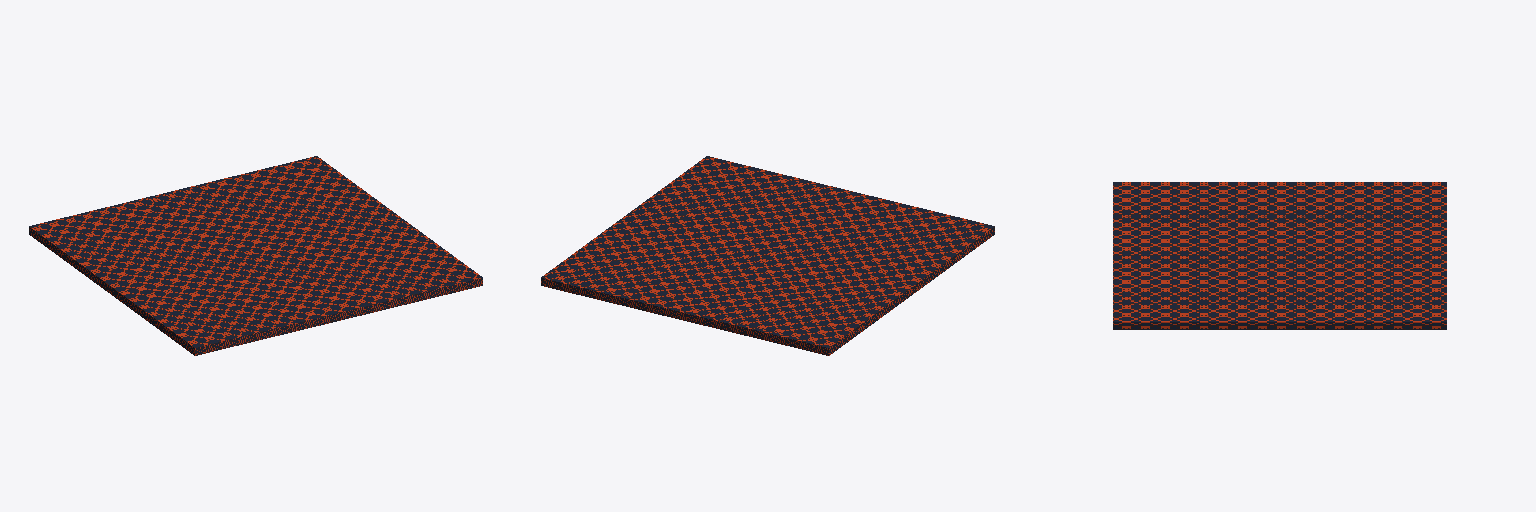
3 renders of one model, left to right at view 1: azimuth 30°, elevation 25°; view 2: azimuth 150°, elevation 25°; view 3: azimuth 270°, elevation 25°, orthographic.
Visible parts, largest first — view 1: Cube_Material.001; view 2: Cube_Material.001; view 3: Cube_Material.001.
Boxes of the visible parts, <box> form: Cube_Material.001: <box>29,156,482,355</box>; Cube_Material.001: <box>541,156,994,355</box>; Cube_Material.001: <box>1113,182,1446,329</box>.
Size of the model in its own units: 5.62 by 0.1484 by 5.62.
Materials: 1 (1 with a texture image).